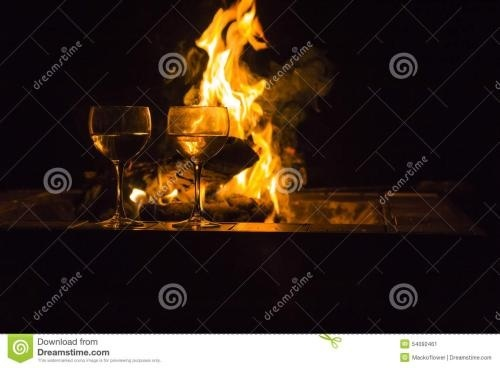fire: (181, 1, 285, 208)
